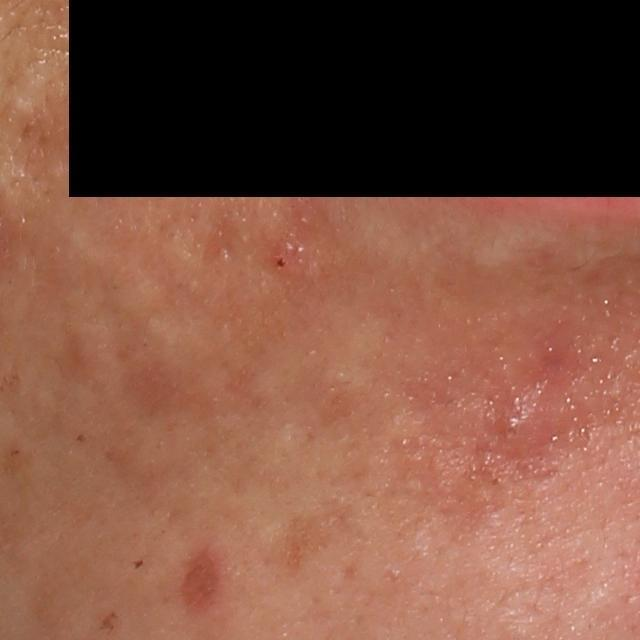hypertrophic_scar: (464, 221, 559, 270), (144, 307, 212, 375), (108, 267, 175, 326), (66, 326, 127, 389), (8, 86, 35, 120)
papule: (484, 390, 556, 461), (259, 238, 307, 283)
